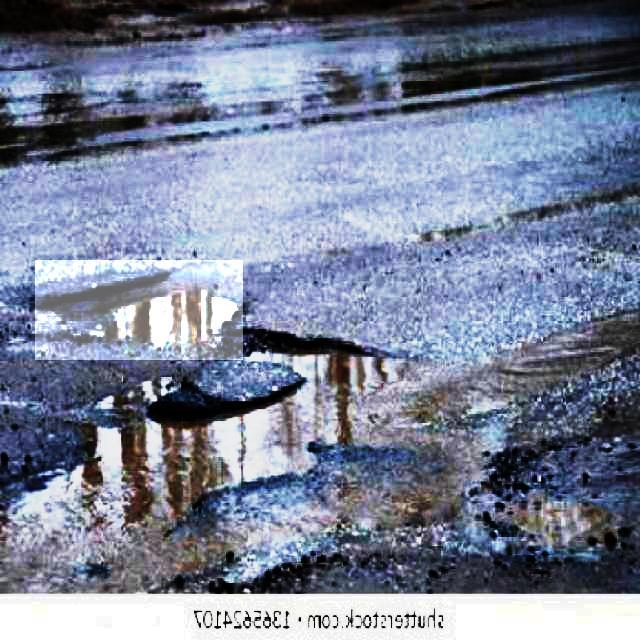pothole: (35, 260, 243, 360)
